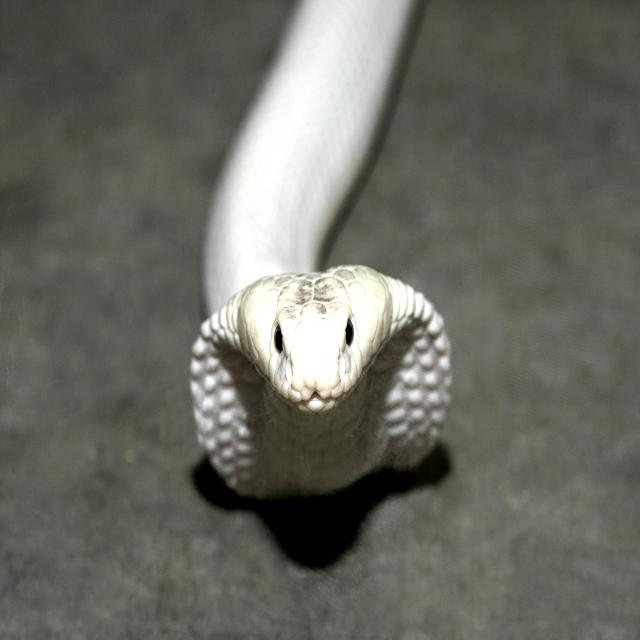Naja kaouthia: (191, 0, 450, 501)
